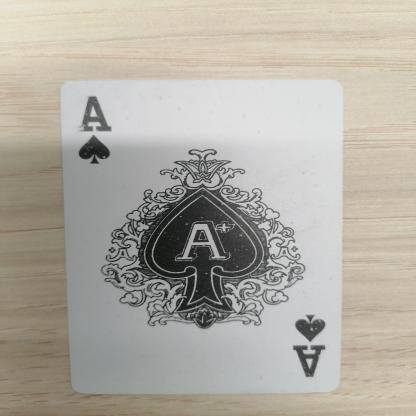AS: (278, 300, 341, 392), (65, 85, 120, 181)
